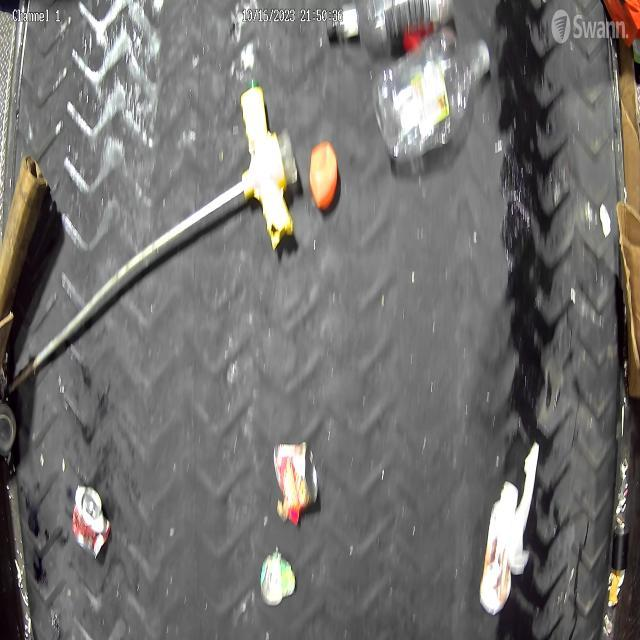can: (272, 438, 320, 520), (71, 482, 112, 561), (260, 552, 296, 604)
plastic_bottle: (373, 28, 492, 164), (326, 0, 454, 56)
